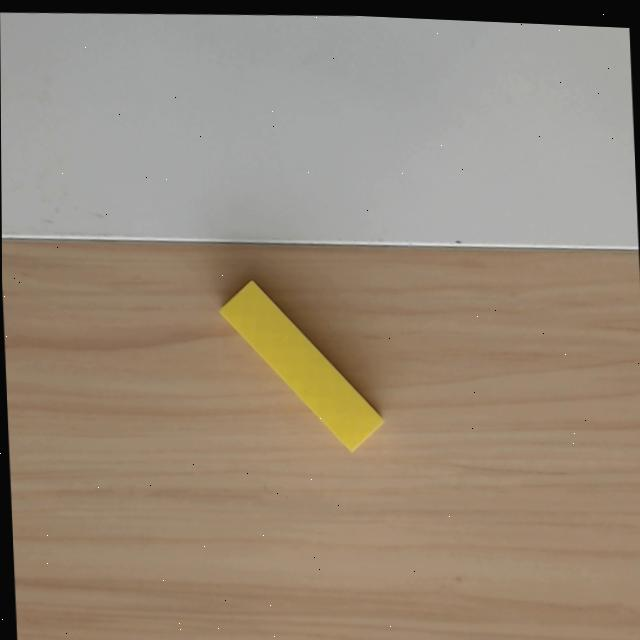Balok-Kuning-1002525: (216, 277, 385, 452)
